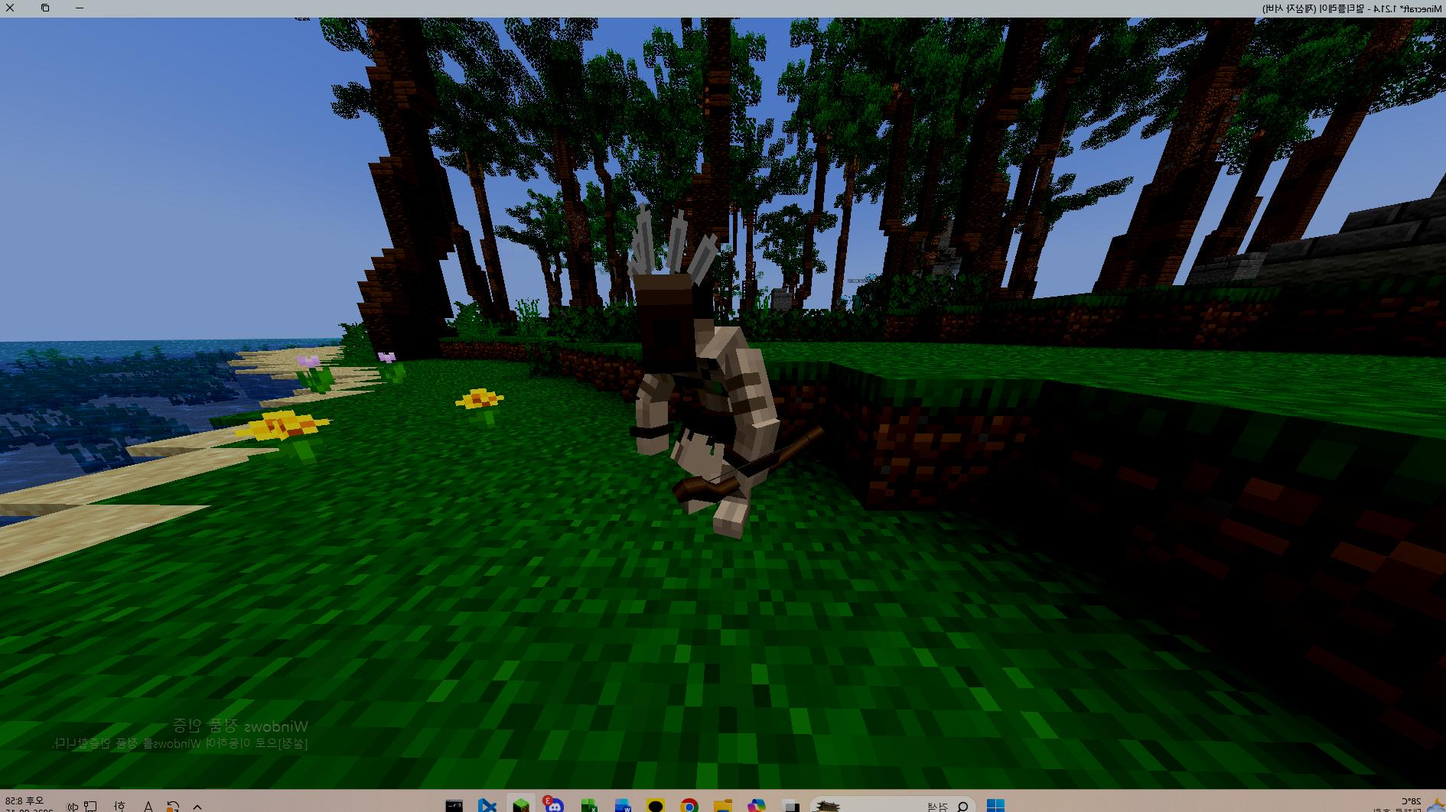bow_indian: (537, 217, 830, 581)
